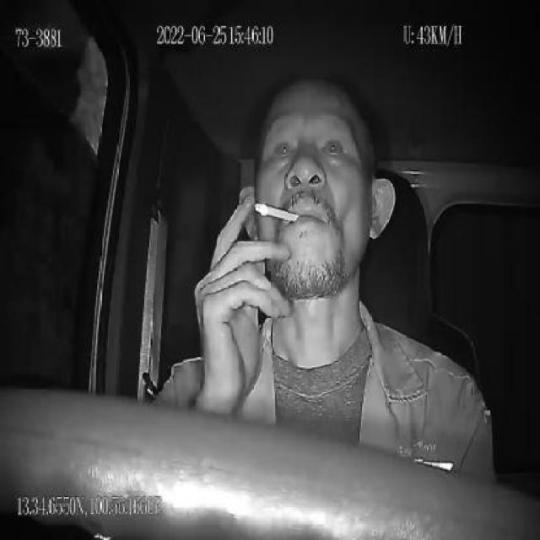smoking: (254, 201, 300, 225)
